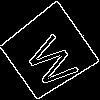W: (23, 27, 88, 93)
